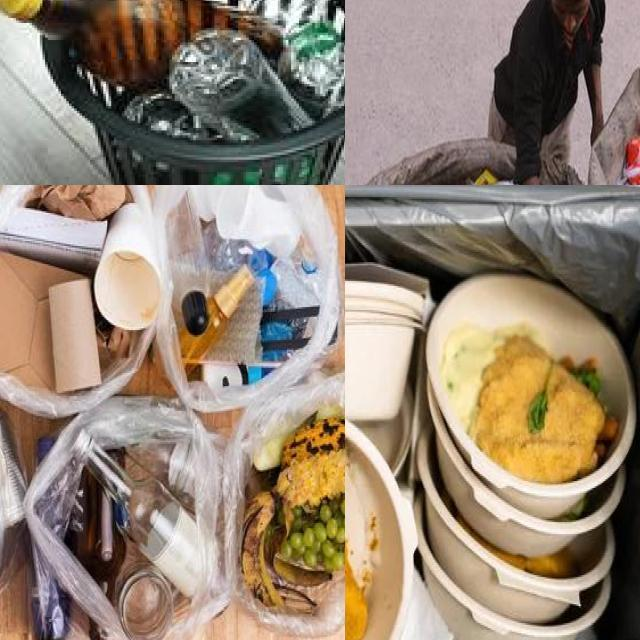Disposable: (414, 276, 636, 640), (345, 420, 416, 640), (345, 281, 425, 420)
Garbage: (345, 268, 640, 640), (38, 412, 232, 640), (161, 185, 337, 412), (0, 185, 167, 410), (233, 379, 345, 626)
Glass_bottle: (25, 397, 229, 640), (35, 399, 205, 640), (87, 445, 199, 598), (33, 544, 111, 640), (118, 567, 173, 640)
Metal: (3, 430, 26, 527)
Plastic: (154, 185, 342, 412)
Plastic_Bag: (473, 169, 497, 185)
contaminated_waste: (0, 253, 230, 640), (154, 185, 341, 405), (79, 428, 212, 640), (345, 421, 416, 640), (172, 192, 213, 334), (197, 360, 279, 399)
